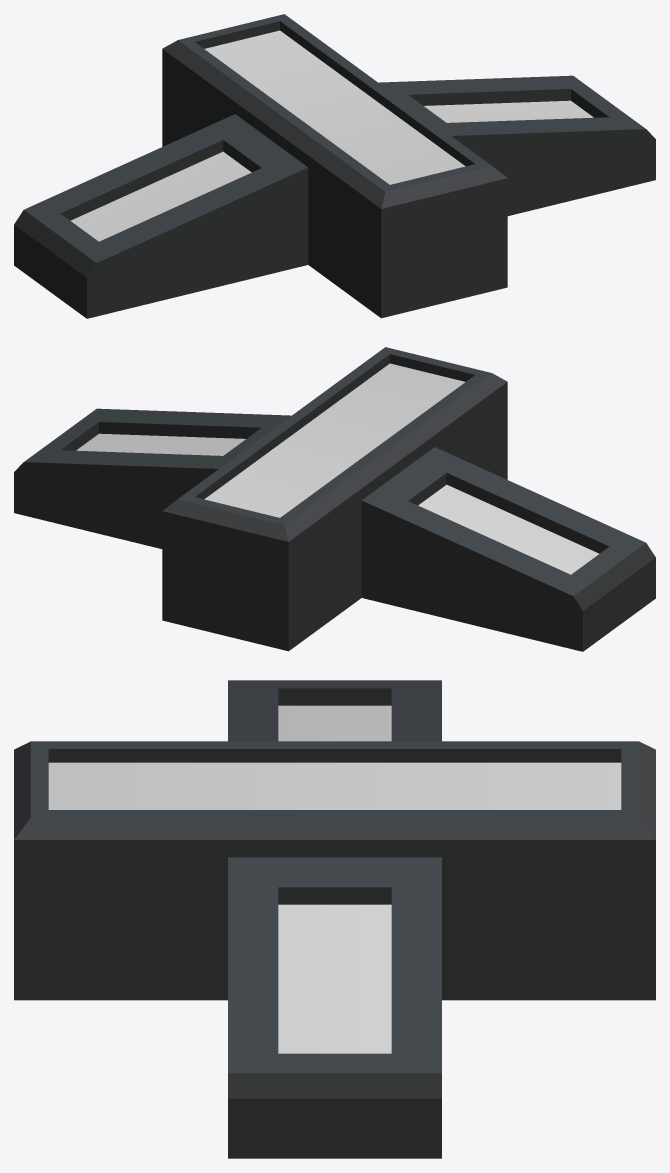
The model's file is LightCross_03.glb.
The picture shows the model from 3 angles, top to bottom: view 1: azimuth 30°, elevation 25°; view 2: azimuth 150°, elevation 25°; view 3: azimuth 270°, elevation 25°; orthographic projection. The views are drawn at different scales.
Parts seen in each view (by area): view 1: LightCross_03; view 2: LightCross_03; view 3: LightCross_03.
Boxes of the visible parts, left/top/right/bottom form: LightCross_03: left=14, top=14, right=655, bottom=318; LightCross_03: left=14, top=347, right=655, bottom=651; LightCross_03: left=14, top=680, right=655, bottom=1158.
Size of what is drawn, in the model's own units: 3 by 0.6034 by 2.
Materials: 1 (1 with a texture image).
